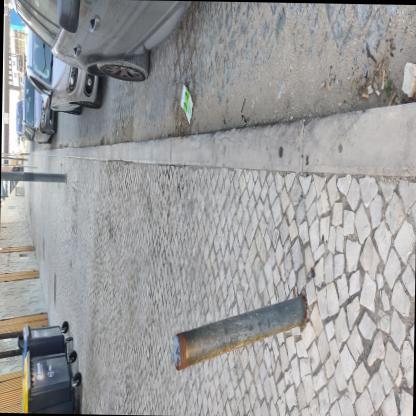Paper: (180, 82, 193, 125), (381, 68, 385, 88), (367, 87, 373, 94), (374, 88, 380, 95), (326, 82, 330, 91), (362, 92, 369, 97), (285, 100, 289, 108), (367, 84, 372, 90), (319, 81, 324, 87), (275, 92, 278, 101), (347, 74, 349, 85), (250, 112, 253, 115), (243, 121, 245, 124)
Waste: (278, 77, 285, 97), (59, 140, 61, 146)
